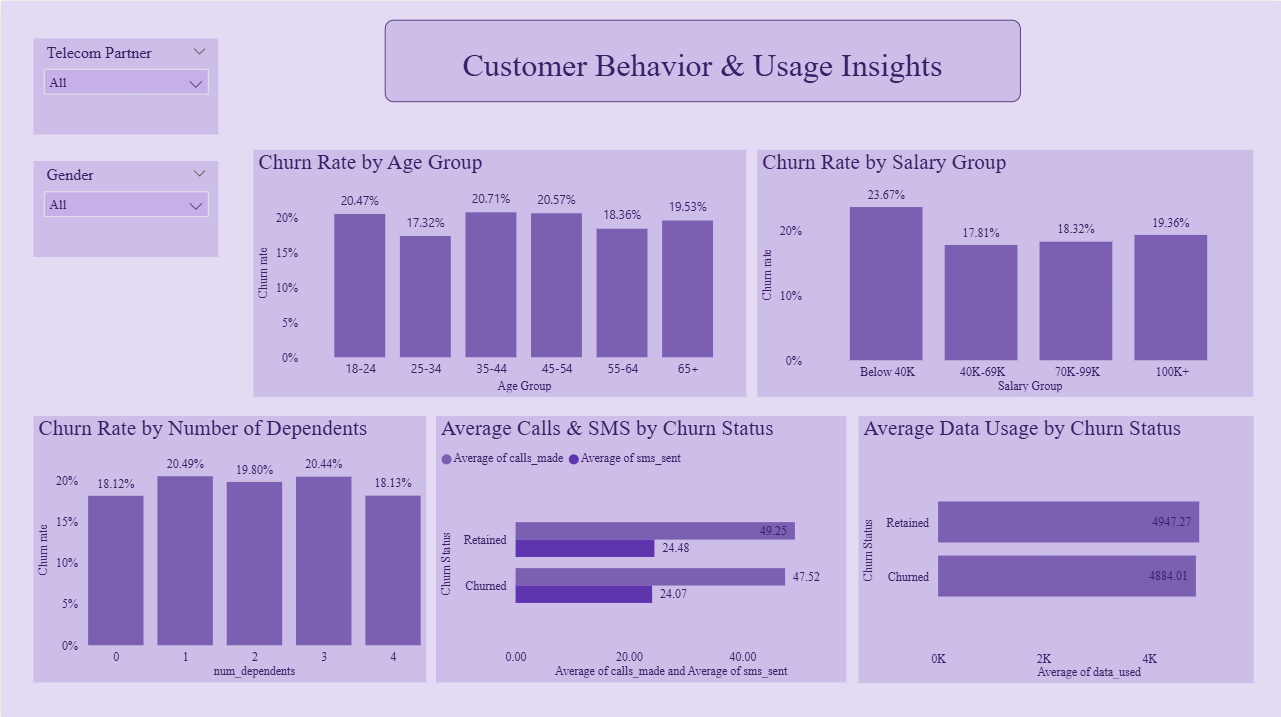

Layout of this report page (visuals, bound fields, positions):
{"tool":"powerbi","page":{"name":"Customer Behavior & Usage Insights","canvas":[1280,720],"ordinal":1},"visuals":[{"type":"clusteredColumnChart","title":"Churn Rate by Age Group","fields":{"Y":["Telecomdata.Churn rate"],"Category":["Telecomdata.Age Group"]},"box":[252.5,148.8,492.5,247.5],"z":0},{"type":"clusteredColumnChart","title":"Churn Rate by Salary Group","fields":{"Y":["Telecomdata.Churn rate"],"Category":["Telecomdata.Salary Group"]},"box":[756.2,148.8,496.2,247.5],"z":1000},{"type":"clusteredColumnChart","title":"Churn Rate by Number of Dependents","fields":{"Y":["Telecomdata.Churn rate"],"Category":["Telecomdata.num_dependents"]},"box":[32.5,415,392.5,266.2],"z":2000},{"type":"clusteredBarChart","title":"Average Calls & SMS by Churn Status","fields":{"Y":["Avg(Telecomdata.calls_made)","Avg(Telecomdata.sms_sent)"],"Category":["Telecomdata.Churn Status"]},"box":[435,415,410,266.2],"z":3000},{"type":"clusteredBarChart","title":"Average Data Usage by Churn Status","fields":{"Y":["Avg(Telecomdata.data_used)"],"Category":["Telecomdata.Churn Status"]},"box":[857.5,415,395,267.5],"z":4000},{"type":"textbox","box":[383.6,19.3,635.8,82],"z":5000},{"type":"slicer","fields":{"Values":["Telecomdata.telecom_partner"]},"box":[32.5,37.5,185,96.2],"z":6000},{"type":"slicer","fields":{"Values":["Telecomdata.gender"]},"box":[32.5,160,185,96.2],"z":7000}]}

Visuals, with their boxes in screenshot pixels (x1, y1, x2, y2), scaled from the page's 1280x720 canvas onto the 1281x717 screenshot:
"Churn Rate by Age Group" clusteredColumnChart: {"left": 253, "top": 148, "right": 746, "bottom": 395}
"Churn Rate by Salary Group" clusteredColumnChart: {"left": 757, "top": 148, "right": 1253, "bottom": 395}
"Churn Rate by Number of Dependents" clusteredColumnChart: {"left": 33, "top": 413, "right": 425, "bottom": 678}
"Average Calls & SMS by Churn Status" clusteredBarChart: {"left": 435, "top": 413, "right": 846, "bottom": 678}
"Average Data Usage by Churn Status" clusteredBarChart: {"left": 858, "top": 413, "right": 1253, "bottom": 680}
textbox: {"left": 384, "top": 19, "right": 1020, "bottom": 101}
slicer - Telecomdata.telecom_partner: {"left": 33, "top": 37, "right": 218, "bottom": 133}
slicer - Telecomdata.gender: {"left": 33, "top": 159, "right": 218, "bottom": 255}
